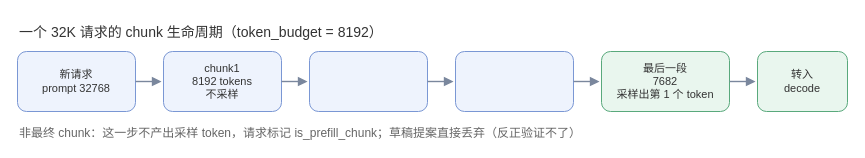
Image size: 865x158. Some labels were removed from this diagram. The centre of each missing label's shape, as x and y in pixels:
"chunk2 8192 不采样" belongs at point 368,81.
"chunk3 8192 不采样" belongs at point 514,81.
